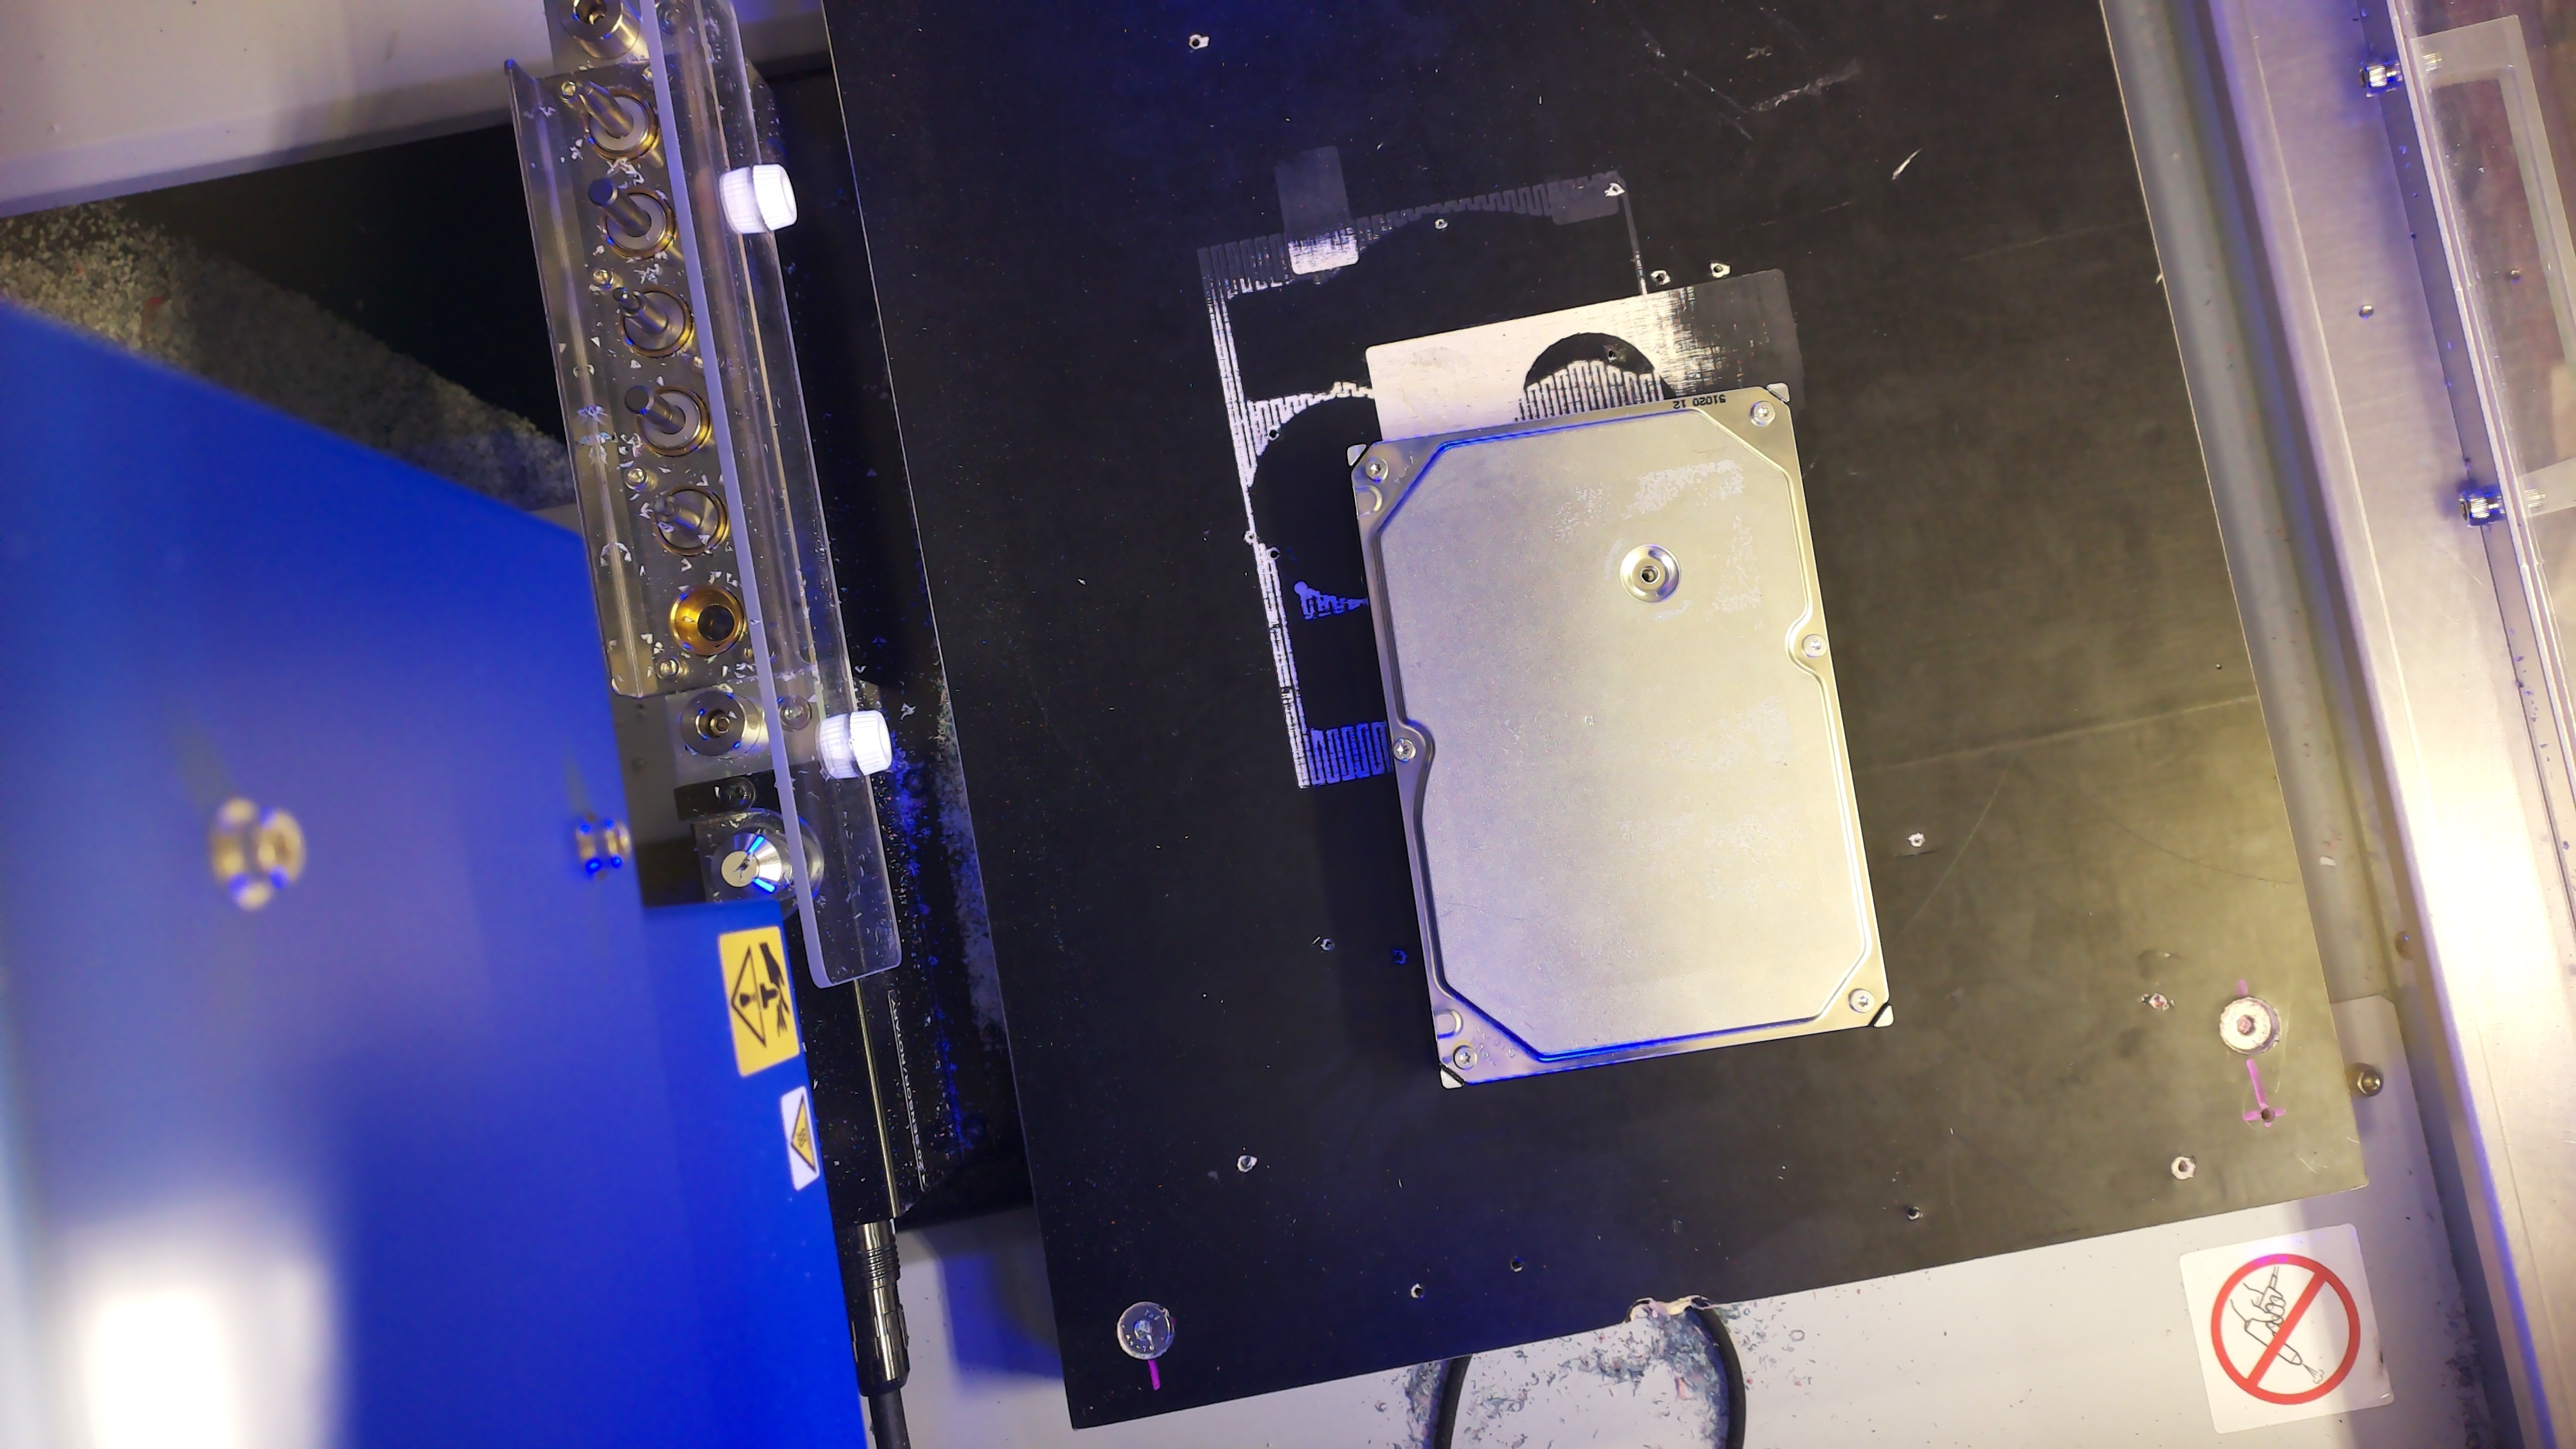Hole: (1640, 564, 1660, 586)
Screw: (1453, 1046, 1479, 1070), (1750, 400, 1775, 426), (1801, 633, 1828, 658), (1364, 456, 1389, 481), (1392, 736, 1415, 763), (1849, 989, 1875, 1012)
